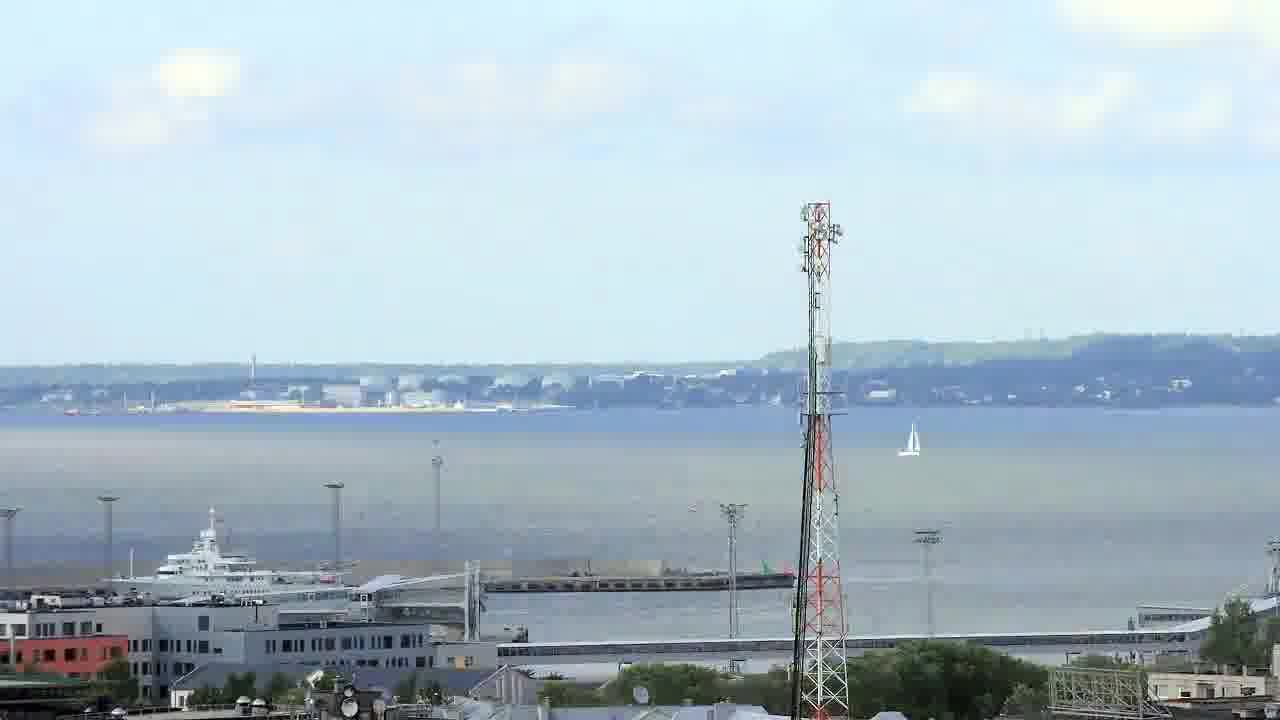type-2: (879, 412, 940, 466)
type-3: (84, 515, 355, 603)
